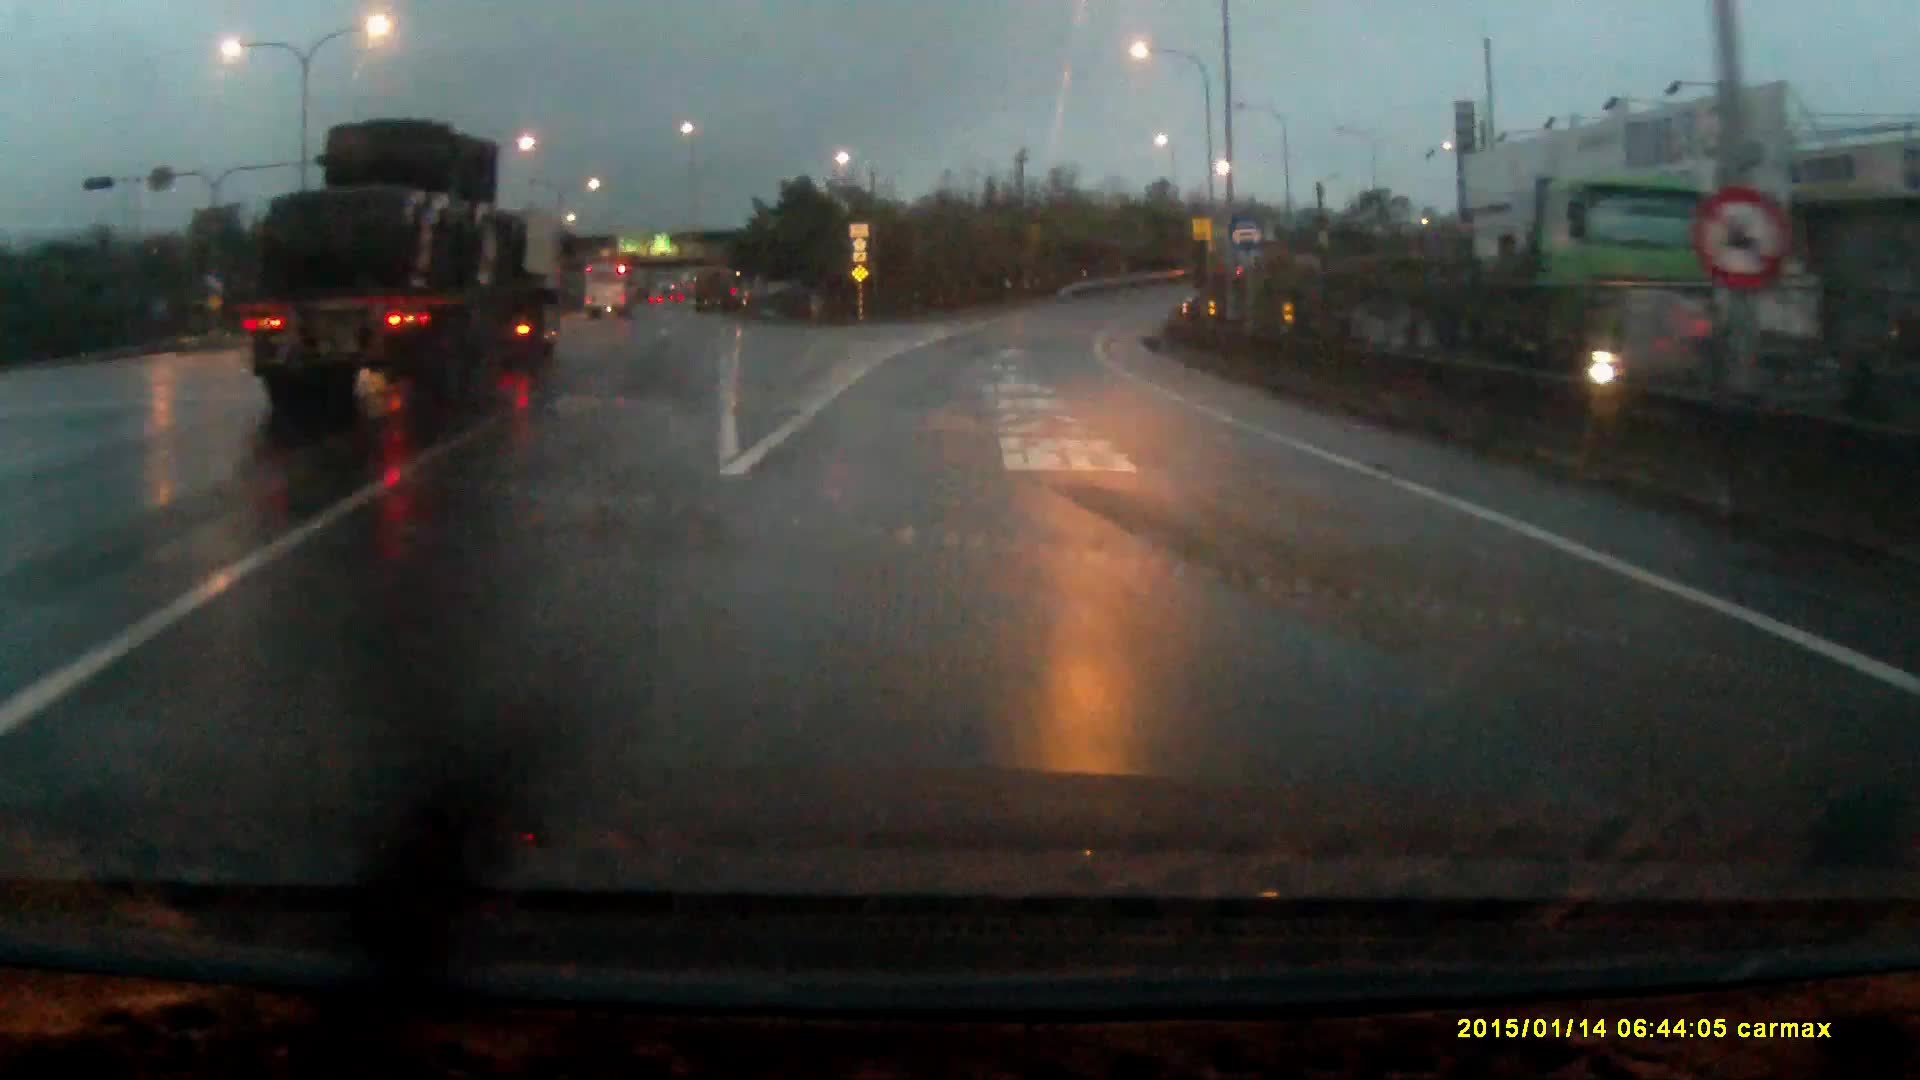vehicle: (244, 120, 571, 414), (585, 265, 640, 319)
